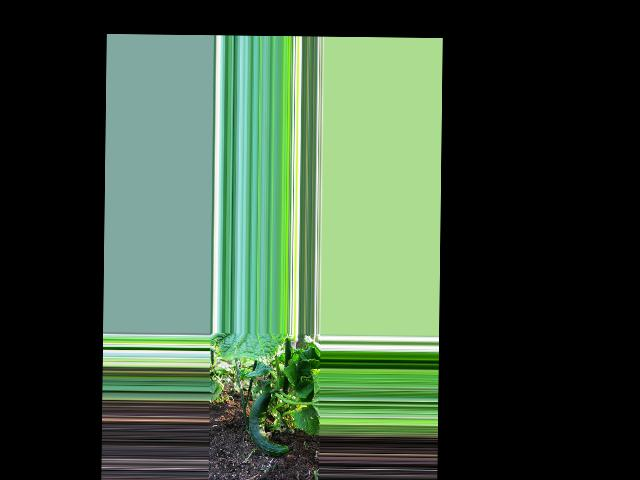cucumber: (248, 390, 290, 456)
